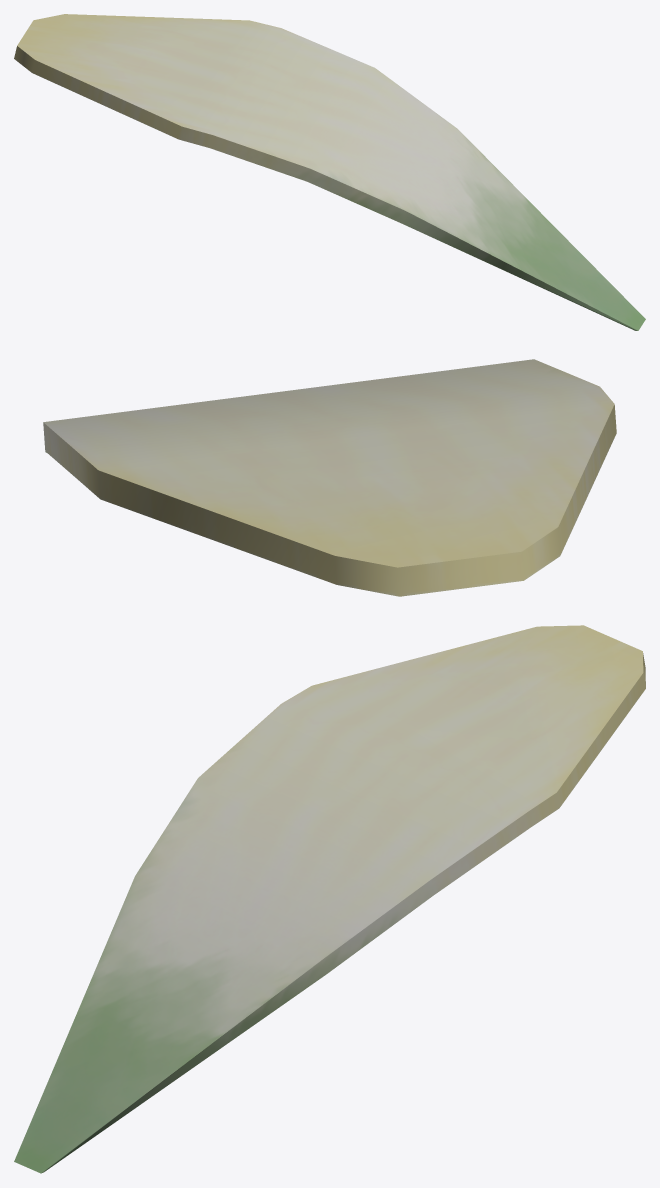
Rendered from rumianek-petal (1).fbx.
3 views of the same model, one above another, from view 1: azimuth 30°, elevation 25°; view 2: azimuth 150°, elevation 25°; view 3: azimuth 270°, elevation 25° (orthographic). The views are drawn at different scales.
Parts seen in each view (by area): view 1: rumianek-low.001; view 2: rumianek-low.001; view 3: rumianek-low.001.
Part boxes in pixels (x1=…): rumianek-low.001: x1=14, y1=14, x2=645, y2=330; rumianek-low.001: x1=43, y1=359, x2=616, y2=596; rumianek-low.001: x1=14, y1=625, x2=645, y2=1173.
Size of the model in its own units: 230 by 116 by 233.
